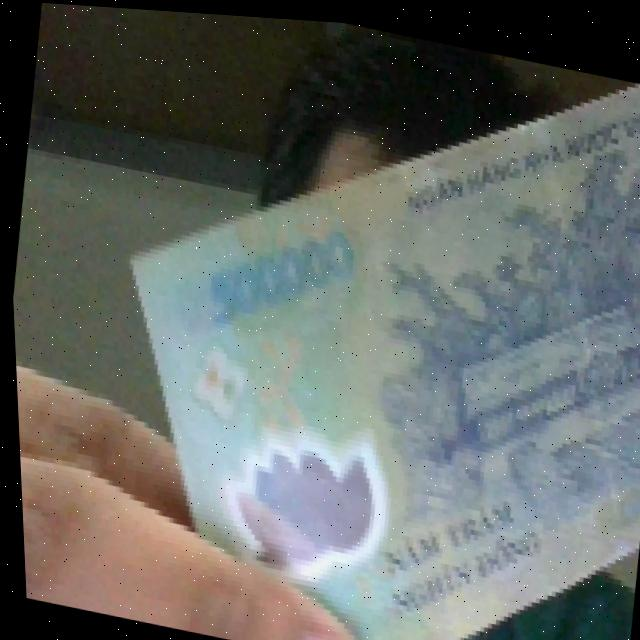500 000 VND: (65, 3, 640, 640)
